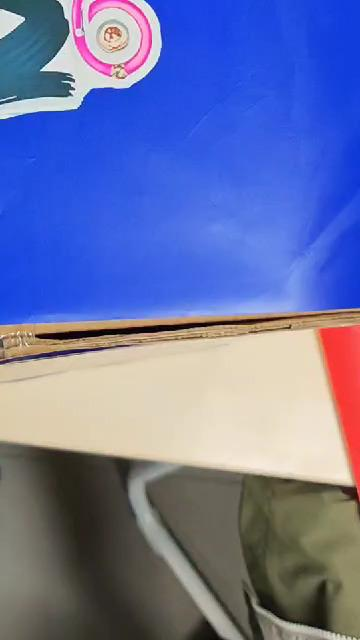B_R1: (0, 0, 302, 141)
